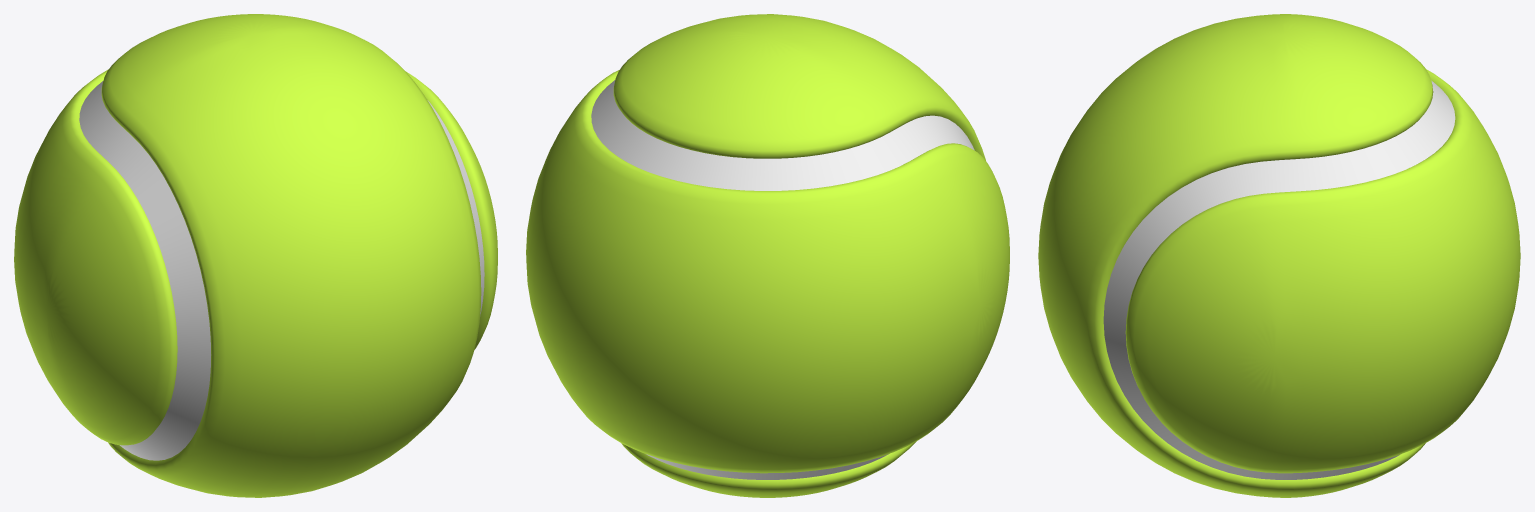
The model's file is ball.gltf.
3 renders of one model, left to right at view 1: azimuth 30°, elevation 25°; view 2: azimuth 150°, elevation 25°; view 3: azimuth 270°, elevation 25°, orthographic.
Visible parts, largest first — view 1: Sphere, Sphere.001; view 2: Sphere, Sphere.001; view 3: Sphere, Sphere.001.
Part boxes in pixels (x1,y1,x2,y2): Sphere: (14, 14, 497, 497); Sphere.001: (79, 81, 484, 460); Sphere: (526, 14, 1009, 497); Sphere.001: (591, 80, 974, 479); Sphere: (1038, 14, 1520, 497); Sphere.001: (1103, 80, 1455, 479).
Bounding box in the file's own units: 0.584 × 0.584 × 0.5789.
